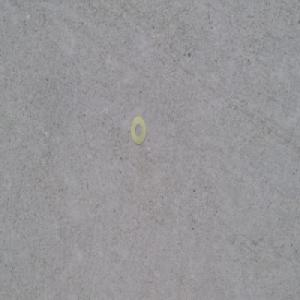Washer: (129, 114, 146, 144)
